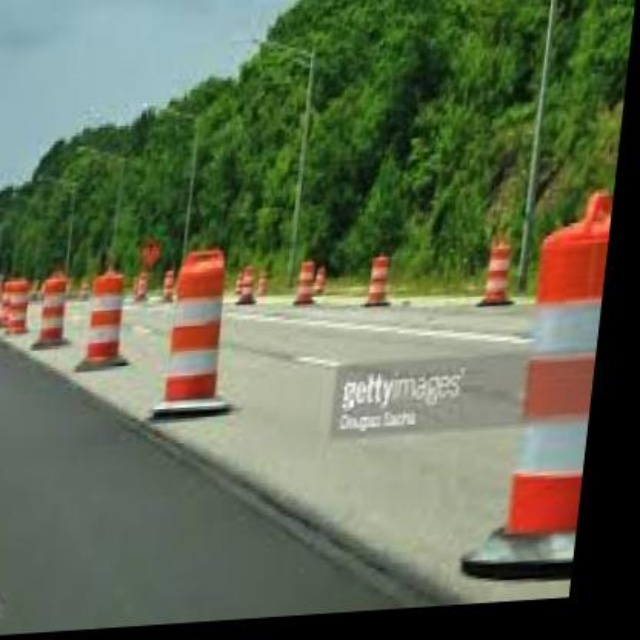obstacle: (510, 205, 619, 546), (172, 264, 243, 405)
